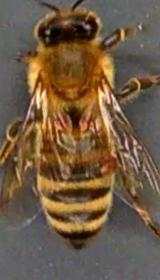varroa_mite: (90, 140, 122, 176), (51, 101, 76, 139), (78, 106, 94, 136)
